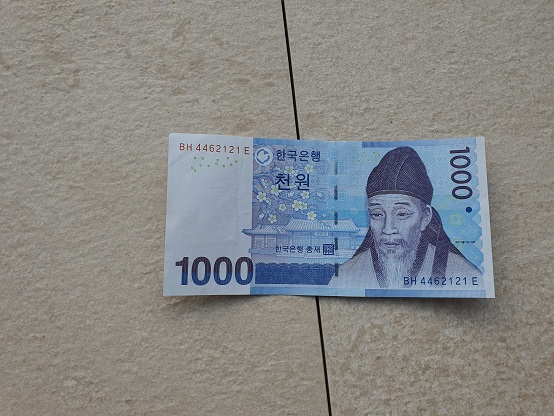1000won: (160, 131, 496, 300)
